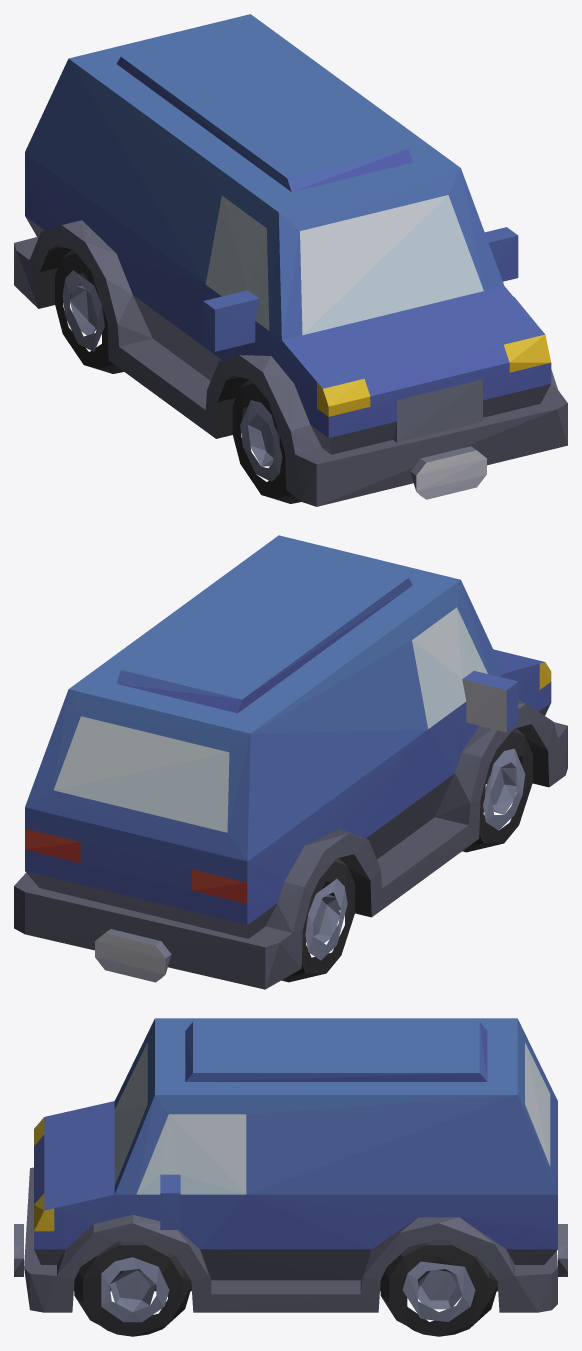
Rendered from van.glb.
The picture shows the model from 3 angles, top to bottom: view 1: azimuth 30°, elevation 25°; view 2: azimuth 150°, elevation 25°; view 3: azimuth 270°, elevation 25°; orthographic projection. The views are drawn at different scales.
Parts seen in each view (by area): view 1: van; view 2: van; view 3: van.
Boxes of the visible parts, x1,y1,x2,y2 form: van: (14, 14, 567, 506); van: (14, 535, 567, 989); van: (14, 1018, 567, 1336).
Size of the model in its own units: 1.5 by 1.35 by 2.75.
